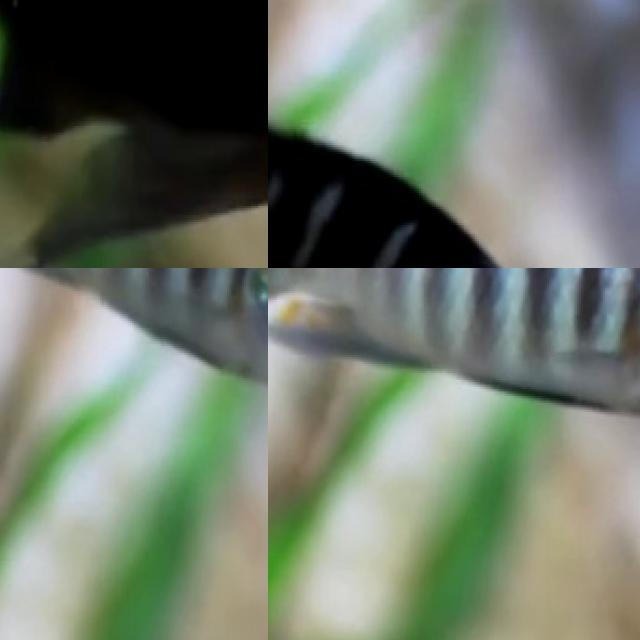fish: (268, 40, 604, 268), (0, 0, 268, 268)
